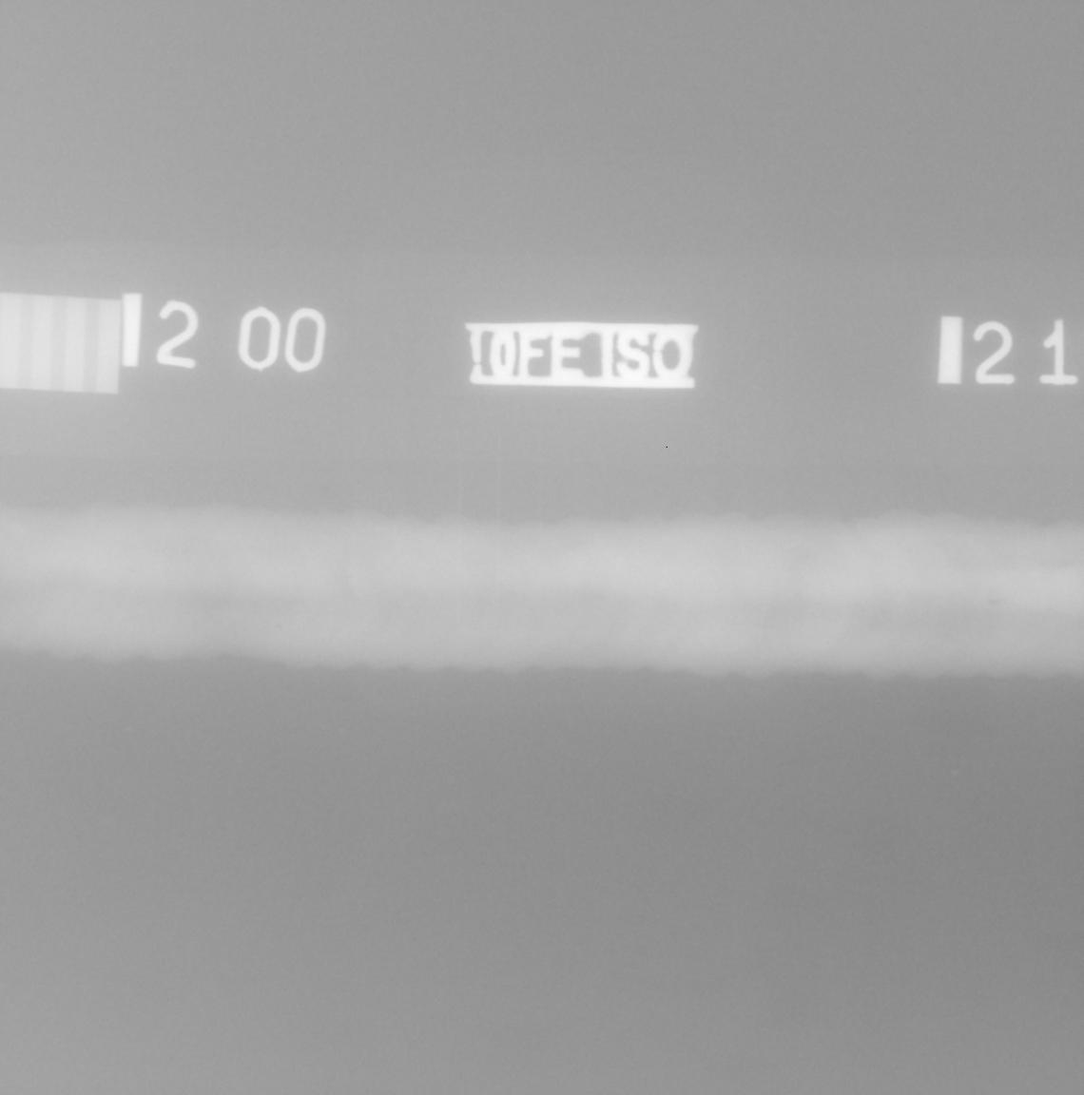Inclusion: (988, 599, 1002, 605)
Pore/Porosity: (131, 570, 135, 574), (277, 626, 281, 630)
